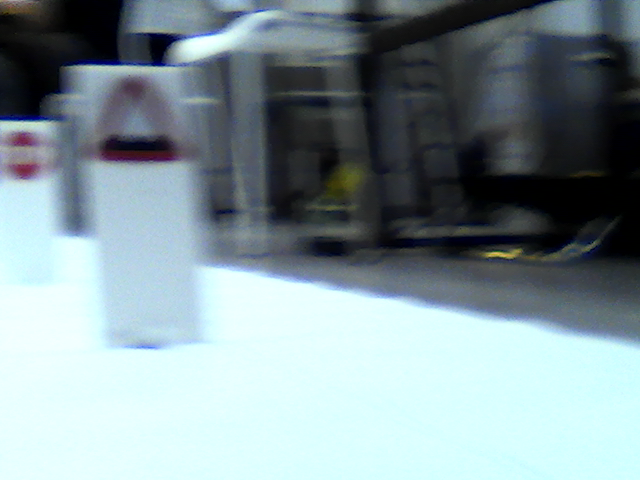Nerov: (97, 79, 183, 161)
